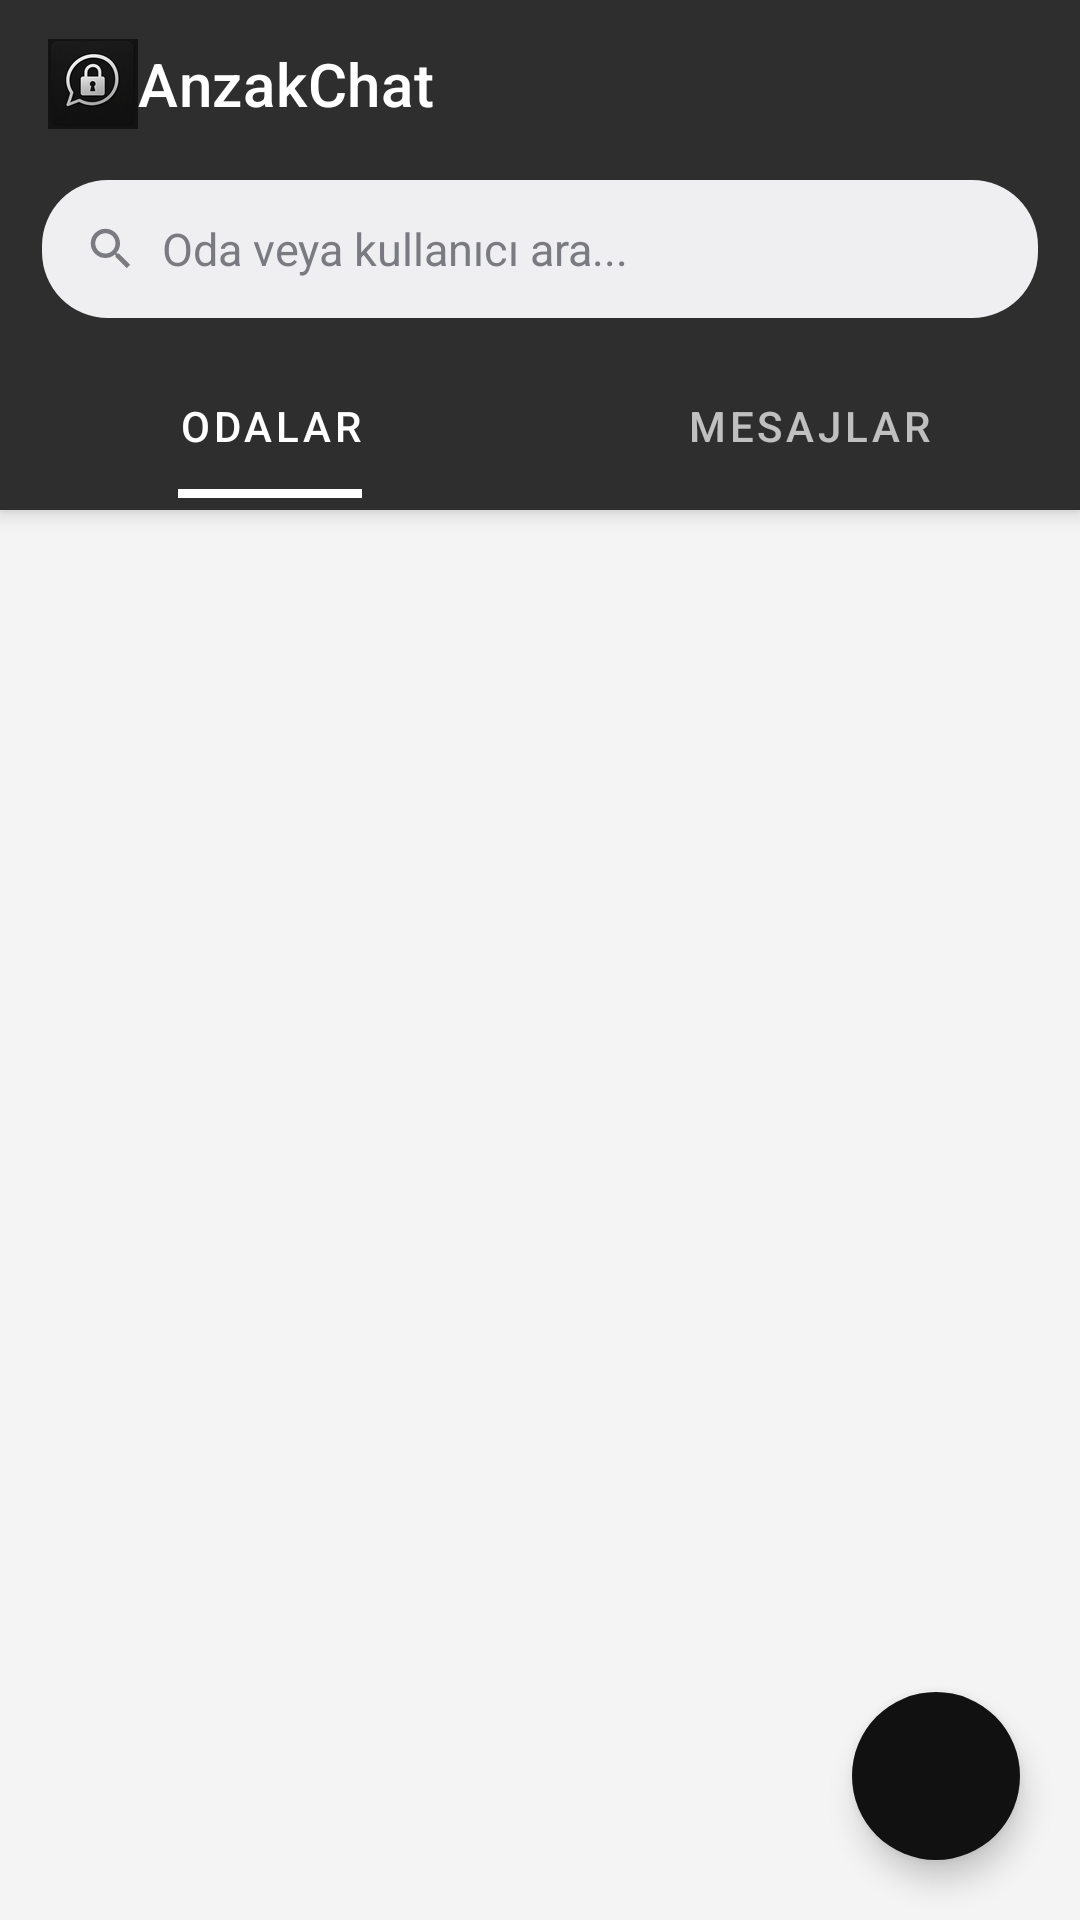

Screen size 1080 × 1920. Icon name, then its center in pixels as [x,y]:
search: [110,248]
